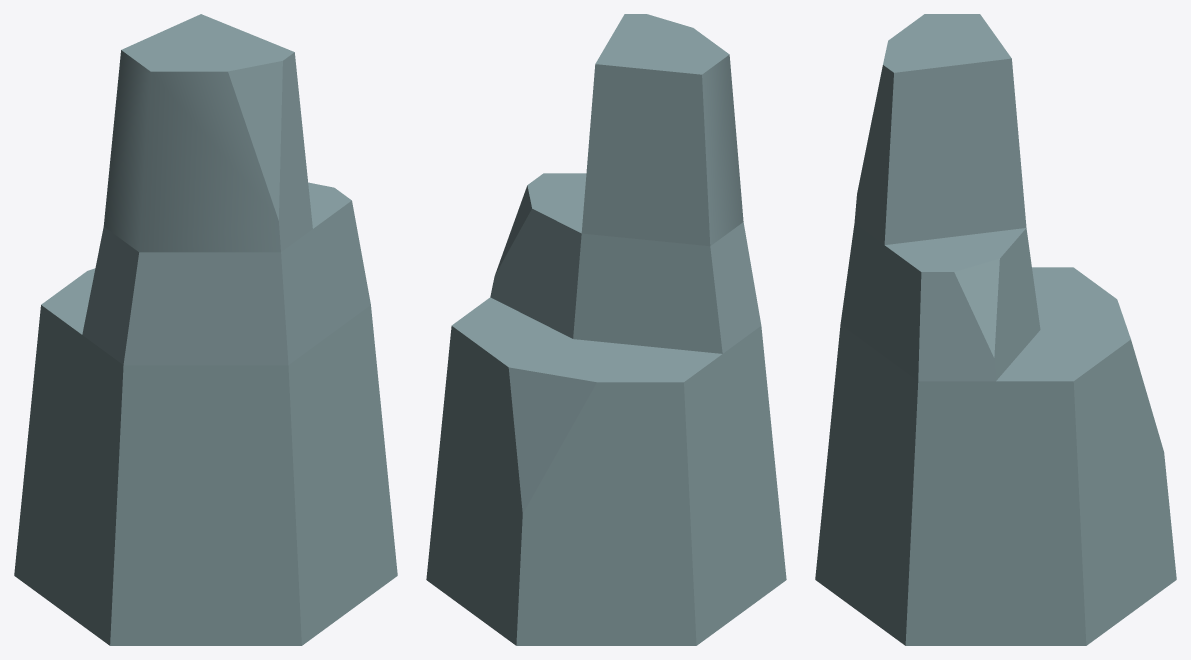
File: stone_tallG.glb
The picture shows the model from 3 angles, left to right: view 1: azimuth 30°, elevation 25°; view 2: azimuth 150°, elevation 25°; view 3: azimuth 270°, elevation 25°; orthographic projection. The views are drawn at different scales.
Visible parts, largest first — view 1: stone_tallG; view 2: stone_tallG; view 3: stone_tallG.
Part boxes in pixels (x1=…): stone_tallG: x1=14, y1=14, x2=397, y2=645; stone_tallG: x1=426, y1=14, x2=786, y2=645; stone_tallG: x1=815, y1=14, x2=1176, y2=645.
Bounding box in the file's own units: 0.4249 × 0.7829 × 0.4907.
